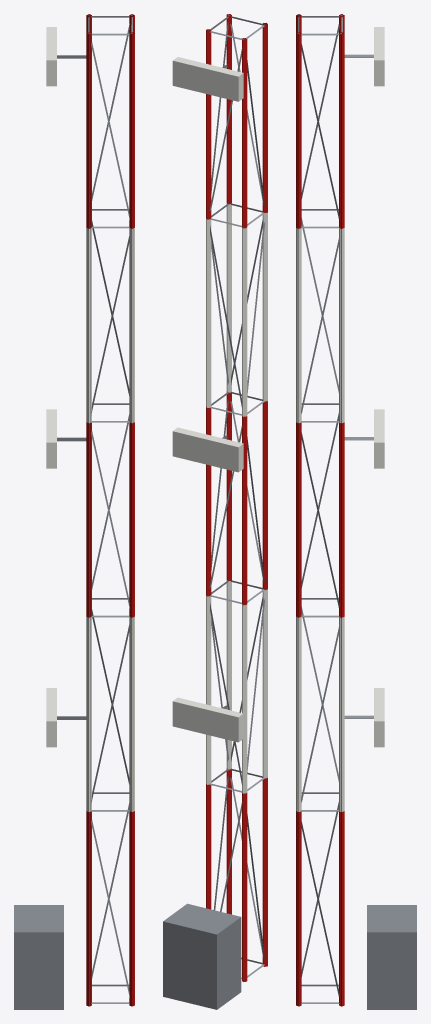
Rendered from bne_ils_gs.dae.
3 renders of one model, left to right at view 1: azimuth 90°, elevation 25°; view 2: azimuth 150°, elevation 25°; view 3: azimuth 270°, elevation 25°, orthographic. The views are drawn at different scales.
Parts seen in each view (by area): view 1: bne_ils_gs96, bne_ils_gs12; view 2: bne_ils_gs96, bne_ils_gs12; view 3: bne_ils_gs96, bne_ils_gs12.
Boxes of the visible parts, <box> form: bne_ils_gs96: <box>14,14,134,1009</box>; bne_ils_gs12: <box>86,14,133,1006</box>; bne_ils_gs96: <box>163,14,267,1009</box>; bne_ils_gs12: <box>208,14,267,980</box>; bne_ils_gs96: <box>296,14,416,1009</box>; bne_ils_gs12: <box>297,14,344,1006</box>.
Size of the model in its own units: 1.1 by 1.69 by 15.01.
